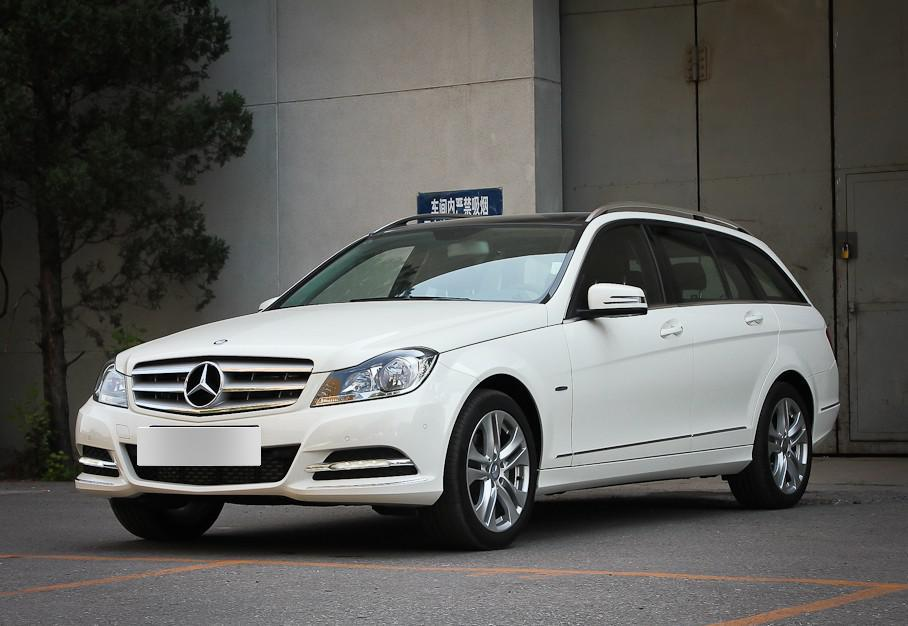Wagon: (71, 199, 842, 550)
